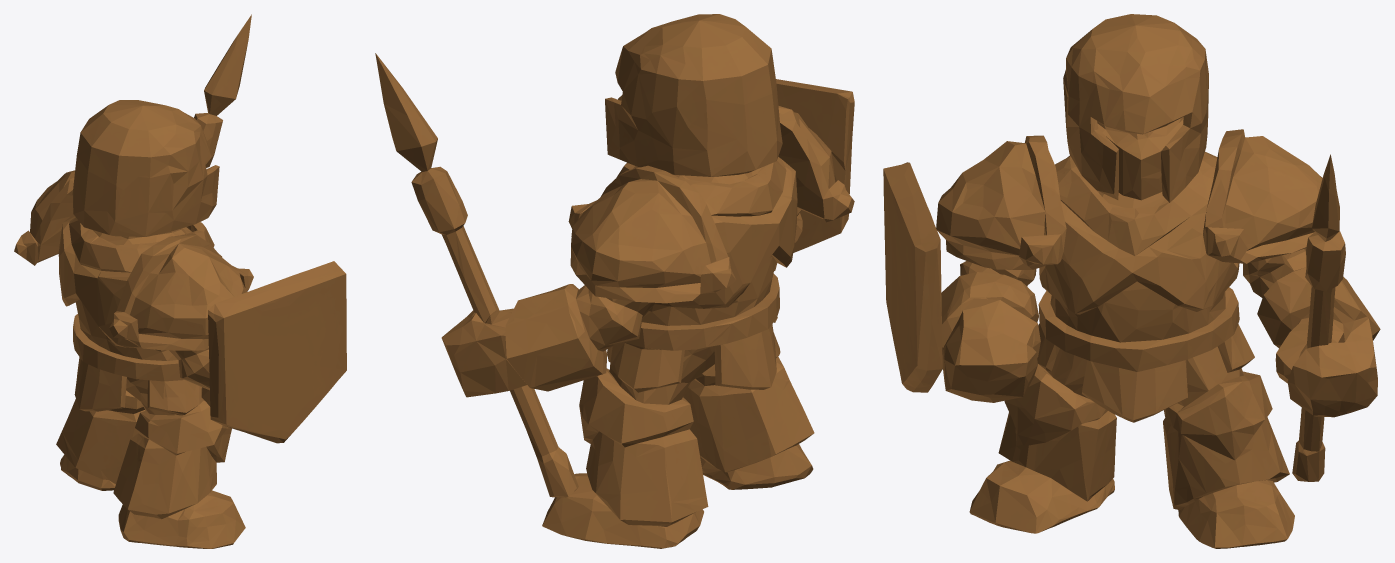
The model's file is copper_guard.glb.
3 renders of one model, left to right at view 1: azimuth 30°, elevation 25°; view 2: azimuth 150°, elevation 25°; view 3: azimuth 270°, elevation 25°, orthographic. The views are drawn at different scales.
Parts seen in each view (by area): view 1: tripo_node_961dd2ce-5023-4b84-b4e9-0a69a8a248c1; view 2: tripo_node_961dd2ce-5023-4b84-b4e9-0a69a8a248c1; view 3: tripo_node_961dd2ce-5023-4b84-b4e9-0a69a8a248c1.
Part boxes in pixels (x1=…): tripo_node_961dd2ce-5023-4b84-b4e9-0a69a8a248c1: x1=14, y1=14, x2=346, y2=548; tripo_node_961dd2ce-5023-4b84-b4e9-0a69a8a248c1: x1=375, y1=14, x2=854, y2=548; tripo_node_961dd2ce-5023-4b84-b4e9-0a69a8a248c1: x1=883, y1=14, x2=1380, y2=548.
Bounding box in the file's own units: 0.585 × 0.82 × 0.7763.
Materials: 1 (1 with a texture image).
